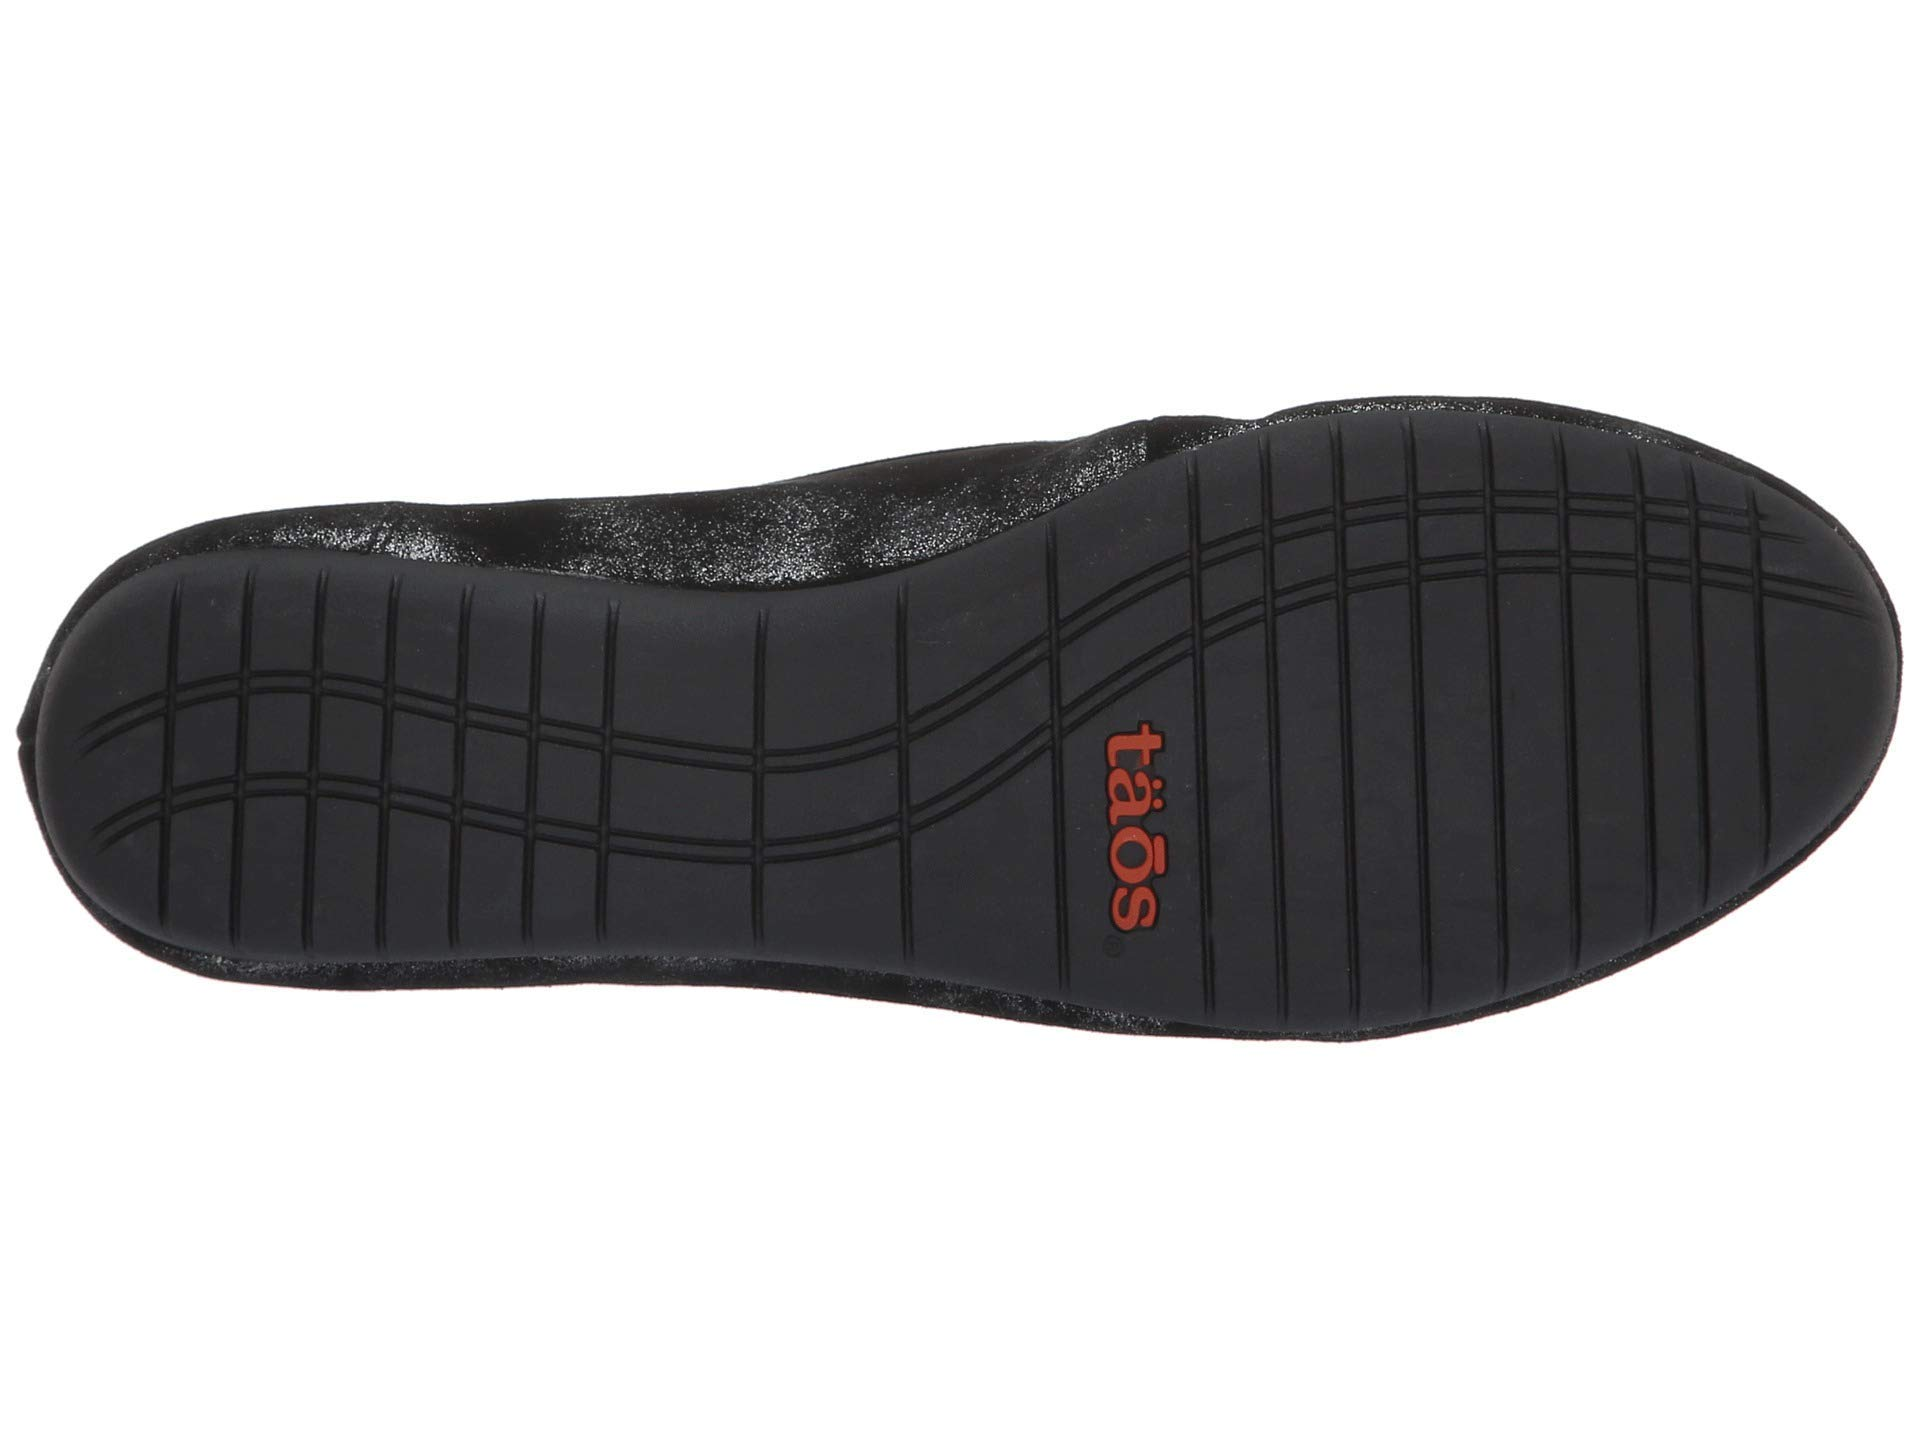circle: (1085, 691, 1184, 967)
line: (1225, 417, 1757, 914), (187, 585, 782, 926), (1085, 691, 1184, 967)
quad: (1225, 417, 1757, 914), (187, 585, 782, 926)
text: (1085, 691, 1184, 967)
